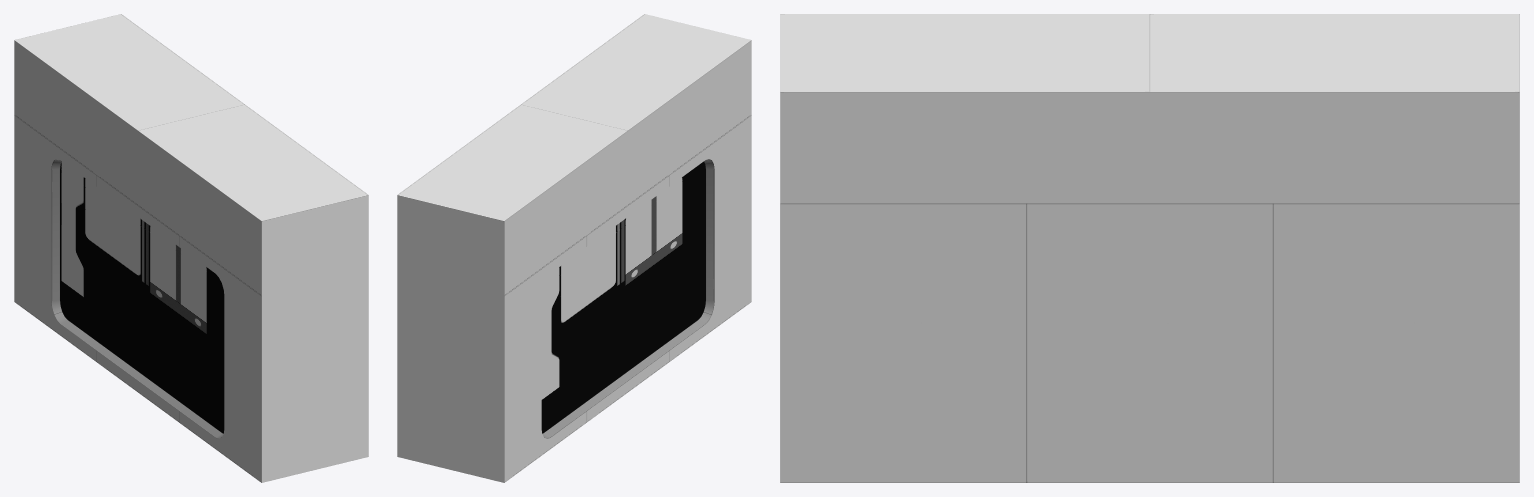
The model's file is Wall_Int_Normal_02.FBX.
The picture shows the model from 3 angles, left to right: view 1: azimuth 30°, elevation 25°; view 2: azimuth 150°, elevation 25°; view 3: azimuth 270°, elevation 25°; orthographic projection. The views are drawn at different scales.
Visible parts, largest first — view 1: Wall_Int_Normal_02, Screen; view 2: Wall_Int_Normal_02, Screen; view 3: Wall_Int_Normal_02.
Part boxes in pixels (<box>): Wall_Int_Normal_02: <box>14,14,368,482</box>; Screen: <box>60,161,224,433</box>; Wall_Int_Normal_02: <box>397,14,751,482</box>; Screen: <box>541,161,705,433</box>; Wall_Int_Normal_02: <box>780,14,1519,482</box>.
Size of the model in its own units: 3 by 7 by 12.
